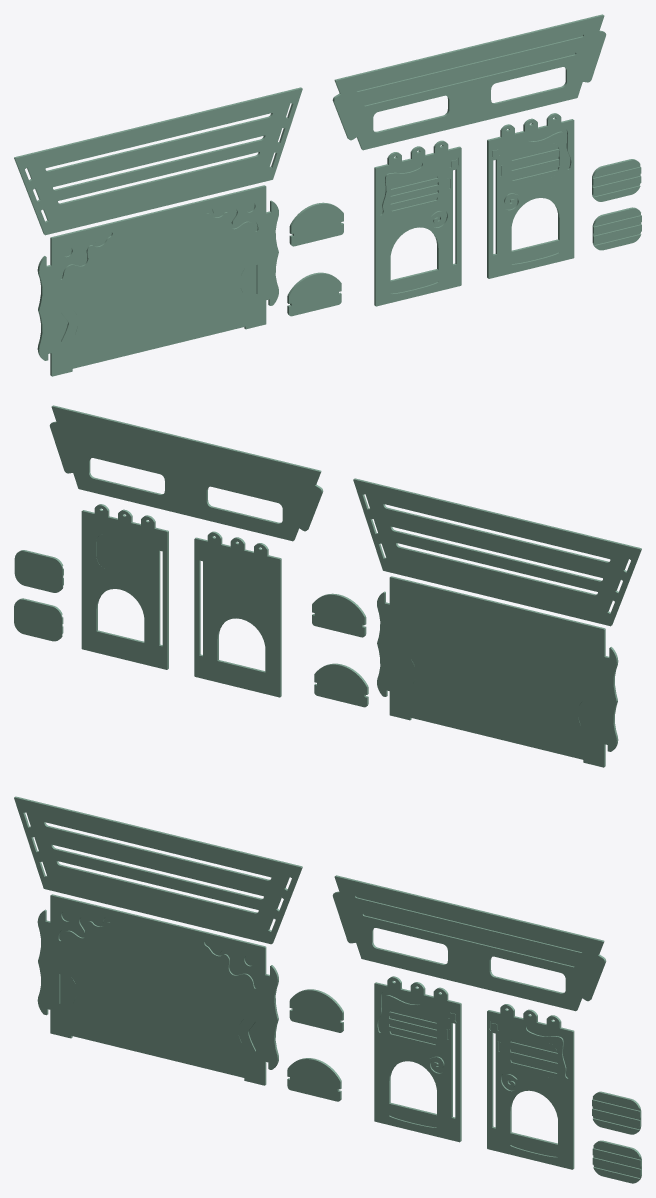
The model's file is panel_flat.glb.
3 views of the same model, one above another, from view 1: azimuth 30°, elevation 25°; view 2: azimuth 150°, elevation 25°; view 3: azimuth 330°, elevation 25° (orthographic).
Visible parts, largest first — view 1: Body1.001, Body1, Body1.004, Body14, Body1.007, Body1.008, Body1.003, Body1.002, Body1.005, Body1.006, Body1.009, Body1.010; view 2: Body1.001, Body1, Body1.004, Body14, Body1.007, Body1.008, Body1.003, Body1.002, Body1.005, Body1.006, Body1.009, Body1.010; view 3: Body1.001, Body1, Body1.004, Body14, Body1.007, Body1.008, Body1.003, Body1.002, Body1.006, Body1.005, Body1.009, Body1.010.
Boxes of the visible parts, x1,y1,x2,y2 form: Body1.001: (14, 87, 302, 235); Body1: (37, 185, 278, 376); Body1.004: (332, 14, 606, 150); Body14: (67, 221, 250, 347); Body1.007: (487, 113, 574, 278); Body1.008: (374, 140, 461, 306); Body1.003: (287, 272, 341, 316); Body1.002: (289, 202, 343, 246); Body1.005: (592, 207, 641, 250); Body1.006: (592, 159, 641, 201); Body1.009: (390, 172, 438, 214); Body1.010: (511, 143, 559, 184); Body1.001: (353, 478, 641, 626); Body1: (377, 576, 618, 767); Body1.004: (49, 405, 323, 541); Body14: (405, 612, 588, 738); Body1.007: (81, 504, 168, 669); Body1.008: (194, 531, 281, 697); Body1.003: (314, 663, 368, 707); Body1.002: (312, 593, 366, 637); Body1.005: (14, 598, 63, 641); Body1.006: (14, 550, 63, 592); Body1.009: (217, 563, 265, 605); Body1.010: (96, 534, 144, 575); Body1.001: (14, 796, 302, 944); Body1: (37, 894, 278, 1085); Body1.004: (332, 875, 606, 1011); Body14: (66, 930, 248, 1056); Body1.007: (487, 1004, 574, 1169); Body1.008: (374, 976, 461, 1142); Body1.003: (287, 1058, 341, 1101); Body1.002: (289, 989, 343, 1032); Body1.006: (592, 1091, 641, 1134); Body1.005: (592, 1140, 641, 1183); Body1.009: (389, 1006, 436, 1048); Body1.010: (510, 1035, 557, 1077).
Bounding box in the file's own units: 1.9 × 0.6833 × 0.0075.
